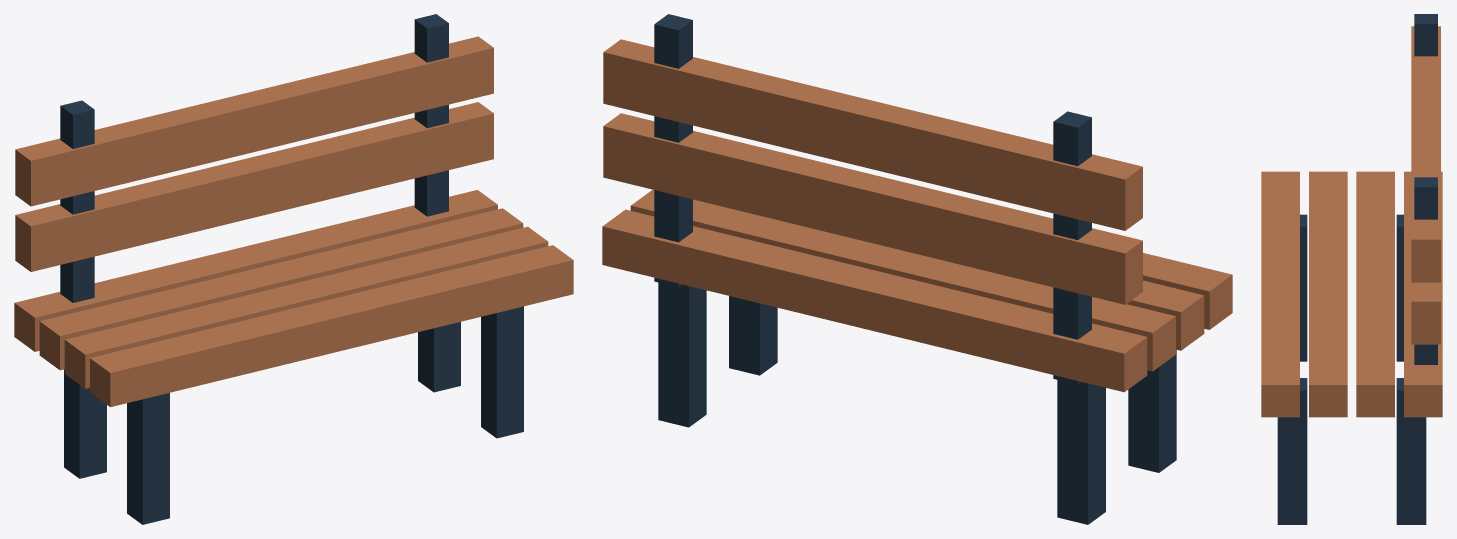
The model's file is 15_bench.obj.
3 views of the same model, side by side, from view 1: azimuth 30°, elevation 25°; view 2: azimuth 150°, elevation 25°; view 3: azimuth 270°, elevation 25° (orthographic). The views are drawn at different scales.
Parts seen in each view (by area): view 1: part_11, part_10, part_7, part_5, part_6, part_4, part_1, part_3, part_0, part_8, part_9, part_2; view 2: part_11, part_10, part_4, part_5, part_0, part_2, part_1, part_8, part_9, part_3, part_7, part_6; view 3: part_5, part_6, part_7, part_11, part_4, part_2, part_3, part_10, part_9, part_0, part_1, part_8.
Part boxes in pixels (x1,y1,x2,y2): part_11: (15,36,493,206); part_10: (15,102,493,271); part_7: (90,245,573,407); part_5: (39,208,523,370); part_6: (64,226,548,388); part_4: (14,190,497,351); part_1: (127,393,169,524); part_3: (481,306,523,438); part_0: (64,369,106,478); part_8: (60,100,94,302); part_9: (414,14,448,216); part_2: (418,322,460,392); part_11: (603,39,1142,230); part_10: (603,113,1142,304); part_4: (602,209,1147,392); part_5: (630,189,1175,371); part_0: (1057,380,1105,524); part_2: (658,282,706,427); part_1: (1128,349,1176,472); part_8: (1053,111,1091,384); part_9: (654,14,692,287); part_3: (729,296,777,375); part_7: (1143,253,1232,329); part_6: (1127,280,1204,350); part_5: (1356,171,1394,417); part_6: (1309,171,1347,417); part_7: (1261,171,1299,417); part_11: (1411,26,1440,282); part_4: (1404,171,1442,417); part_2: (1396,378,1426,524); part_3: (1277,378,1307,524); part_10: (1411,282,1440,344); part_9: (1414,177,1437,364); part_0: (1396,214,1403,361); part_1: (1300,214,1307,361); part_8: (1414,14,1437,56).
Bounding box in the file's own units: 1.7 × 1.25 × 0.61.
